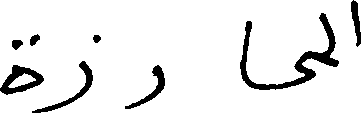ا: (237, 18, 250, 87), (348, 0, 359, 48)
ة: (0, 31, 44, 111)
ح: (280, 61, 315, 86)
ر: (125, 63, 164, 109)
ز: (42, 33, 100, 111)
ل: (313, 10, 337, 50), (307, 47, 341, 68)
